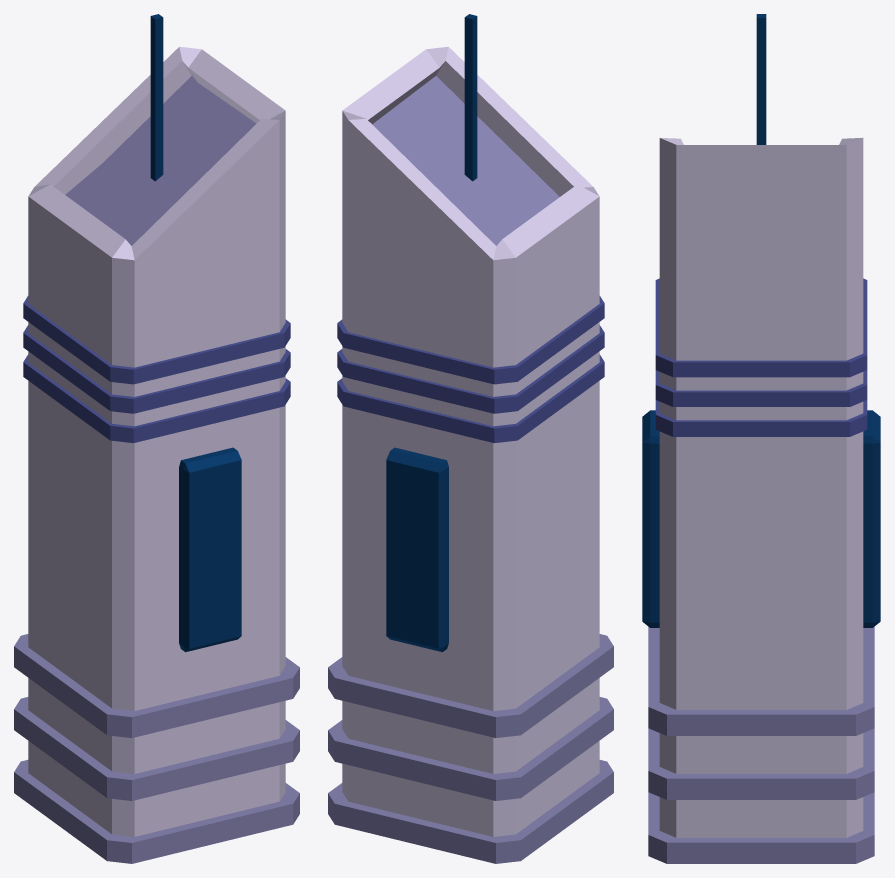
The model's file is Building11.fbx.
3 renders of one model, left to right at view 1: azimuth 30°, elevation 25°; view 2: azimuth 150°, elevation 25°; view 3: azimuth 270°, elevation 25°, orthographic.
Parts seen in each view (by area): view 1: Cube.003, Cube.008, Cube.007, Cube.002, Cube, Cube.001, Cube.004, Cube.005, Cube.006, Cube.009; view 2: Cube.003, Cube.008, Cube.007, Cube.002, Cube, Cube.001, Cube.004, Cube.005, Cube.006, Cube.009; view 3: Cube.003, Cube.002, Cube.007, Cube, Cube.001, Cube.004, Cube.005, Cube.006, Cube.009.
Part boxes in pixels (x1=…): Cube.003: x1=28, y1=46, x2=285, y2=836; Cube.008: x1=65, y1=76, x2=256, y2=245; Cube.007: x1=179, y1=447, x2=241, y2=652; Cube.002: x1=14, y1=634, x2=299, y2=737; Cube: x1=14, y1=760, x2=299, y2=863; Cube.001: x1=14, y1=697, x2=299, y2=800; Cube.004: x1=23, y1=296, x2=290, y2=384; Cube.005: x1=23, y1=325, x2=290, y2=413; Cube.006: x1=23, y1=354, x2=290, y2=443; Cube.009: x1=150, y1=14, x2=163, y2=181; Cube.003: x1=342, y1=46, x2=599, y2=836; Cube.008: x1=372, y1=76, x2=559, y2=245; Cube.007: x1=386, y1=447, x2=448, y2=652; Cube.002: x1=328, y1=634, x2=613, y2=737; Cube: x1=328, y1=760, x2=613, y2=863; Cube.001: x1=328, y1=697, x2=613, y2=800; Cube.004: x1=337, y1=296, x2=604, y2=384; Cube.005: x1=337, y1=325, x2=604, y2=413; Cube.006: x1=337, y1=354, x2=604, y2=443; Cube.009: x1=464, y1=14, x2=477, y2=181; Cube.003: x1=659, y1=137, x2=863, y2=837; Cube.002: x1=648, y1=627, x2=874, y2=735; Cube.007: x1=642, y1=410, x2=880, y2=627; Cube: x1=648, y1=792, x2=874, y2=863; Cube.001: x1=648, y1=728, x2=874, y2=799; Cube.004: x1=655, y1=278, x2=867, y2=377; Cube.005: x1=655, y1=370, x2=867, y2=406; Cube.006: x1=655, y1=400, x2=867, y2=436; Cube.009: x1=756, y1=14, x2=766, y2=144.
Bounding box in the file's own units: 963 × 3753 × 1012.
